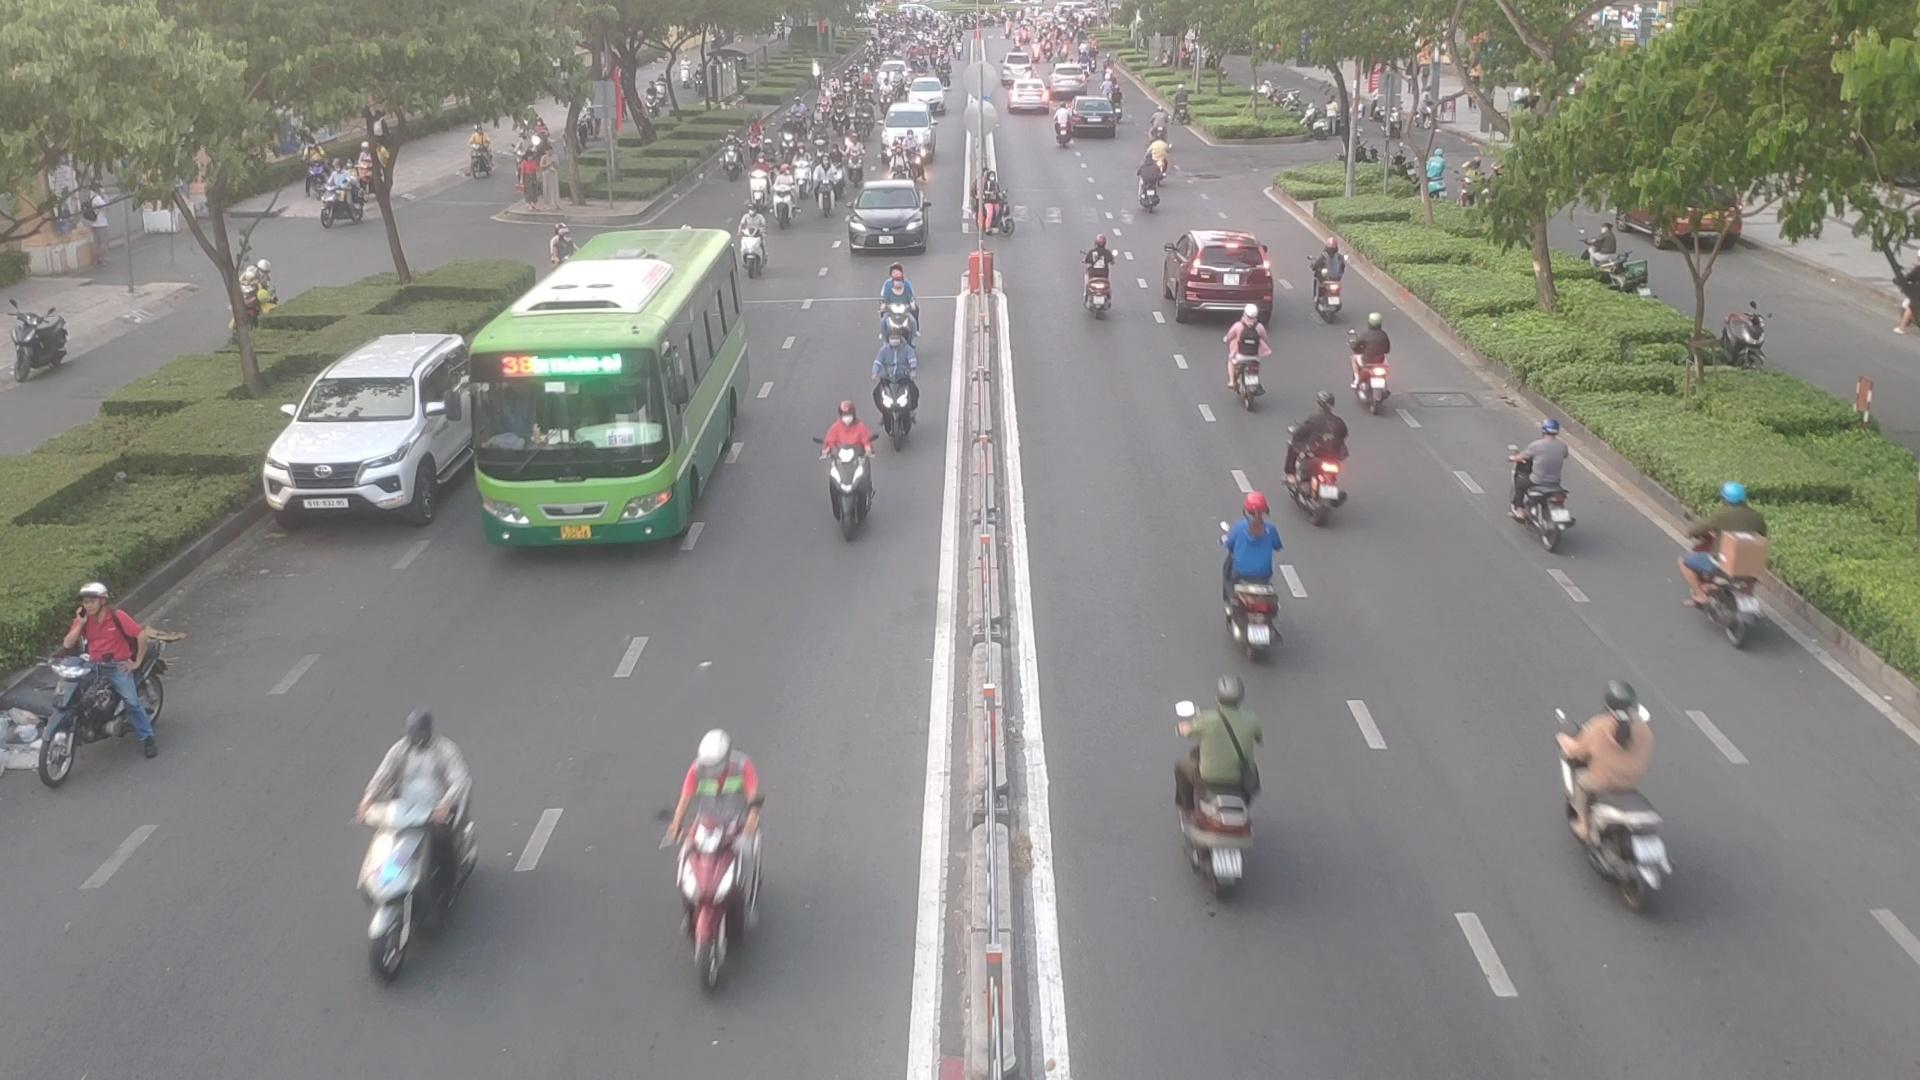bus: (468, 303, 754, 555)
car: (266, 332, 501, 529), (1167, 229, 1280, 324), (843, 183, 930, 258)
motorbike: (340, 713, 487, 968), (646, 735, 767, 994), (1560, 680, 1684, 909), (18, 589, 171, 774), (1175, 703, 1278, 893), (1218, 504, 1309, 649), (1509, 425, 1586, 545), (816, 413, 884, 542), (1294, 400, 1362, 520), (862, 332, 924, 442), (1342, 315, 1396, 410), (1224, 309, 1275, 406), (876, 274, 920, 349), (1077, 243, 1120, 319), (761, 178, 796, 227)
